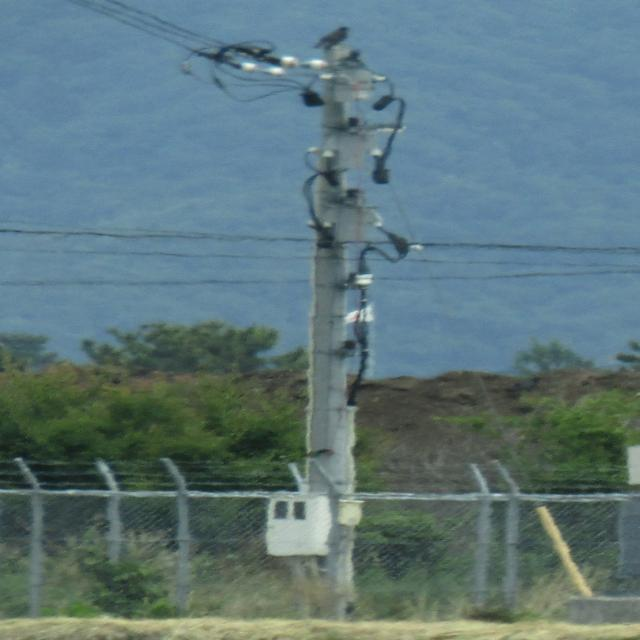pole: (159, 18, 515, 620)
